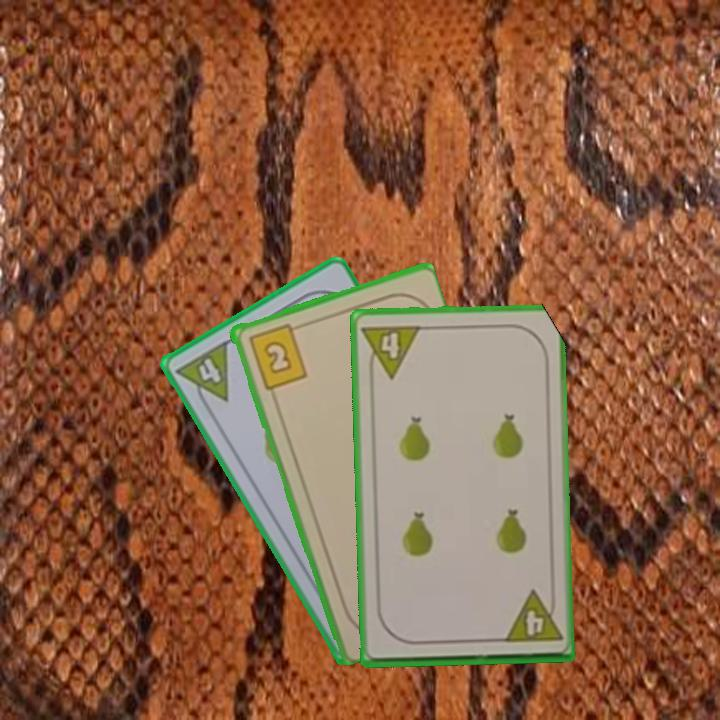2b: (244, 320, 310, 392)
4p: (172, 336, 232, 415), (359, 320, 424, 382), (500, 587, 565, 646)
